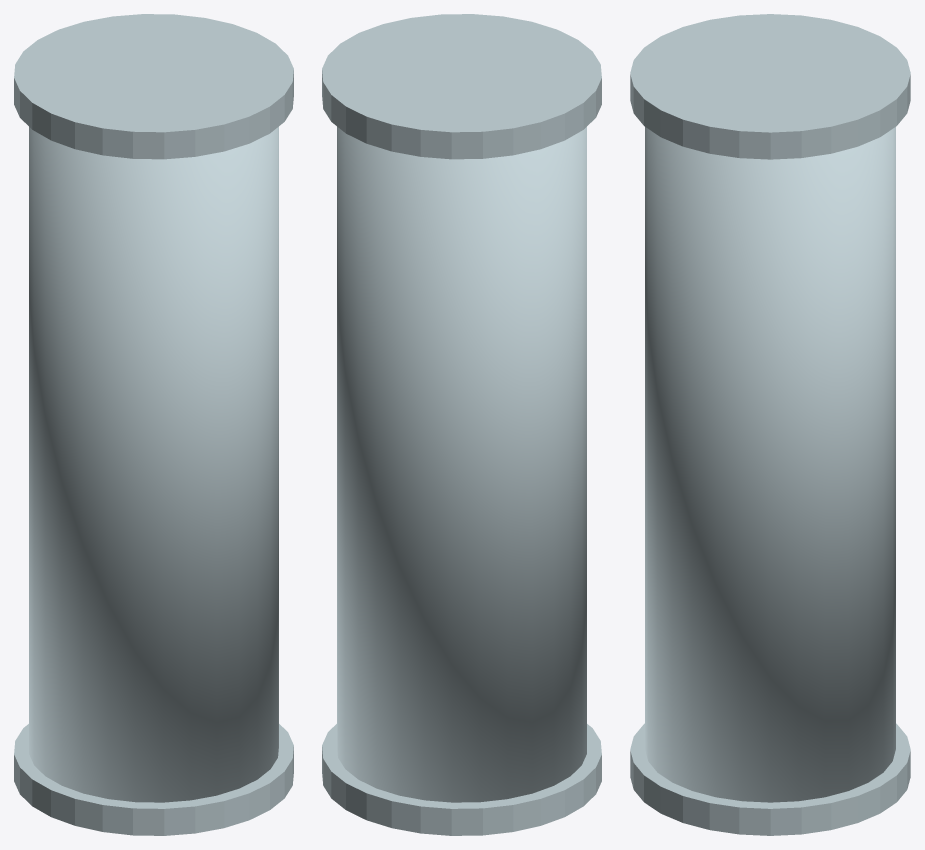
Rendered from A-NEW-20261026-HOURGLASS-001_LOD2_R2.glb.
3 views of the same model, side by side, from view 1: azimuth 30°, elevation 25°; view 2: azimuth 150°, elevation 25°; view 3: azimuth 270°, elevation 25° (orthographic).
Parts seen in each view (by area): view 1: protective clear sleeve, clear flange disk.001, clear flange disk; view 2: protective clear sleeve, clear flange disk.001, clear flange disk; view 3: protective clear sleeve, clear flange disk.001, clear flange disk.
Boxes of the visible parts, bbox=[...] form: protective clear sleeve: bbox=[29, 126, 278, 802]; clear flange disk.001: bbox=[14, 14, 293, 159]; clear flange disk: bbox=[14, 724, 293, 835]; protective clear sleeve: bbox=[337, 126, 586, 802]; clear flange disk.001: bbox=[322, 14, 601, 159]; clear flange disk: bbox=[322, 724, 601, 835]; protective clear sleeve: bbox=[645, 127, 895, 802]; clear flange disk.001: bbox=[630, 14, 910, 159]; clear flange disk: bbox=[630, 723, 910, 835].
Bounding box in the file's own units: 0.094 × 0.26 × 0.094.
